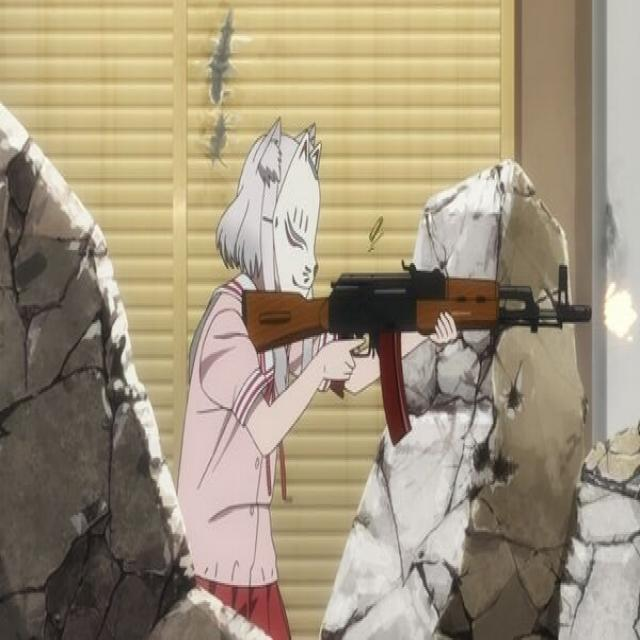ak: (242, 261, 594, 445)
